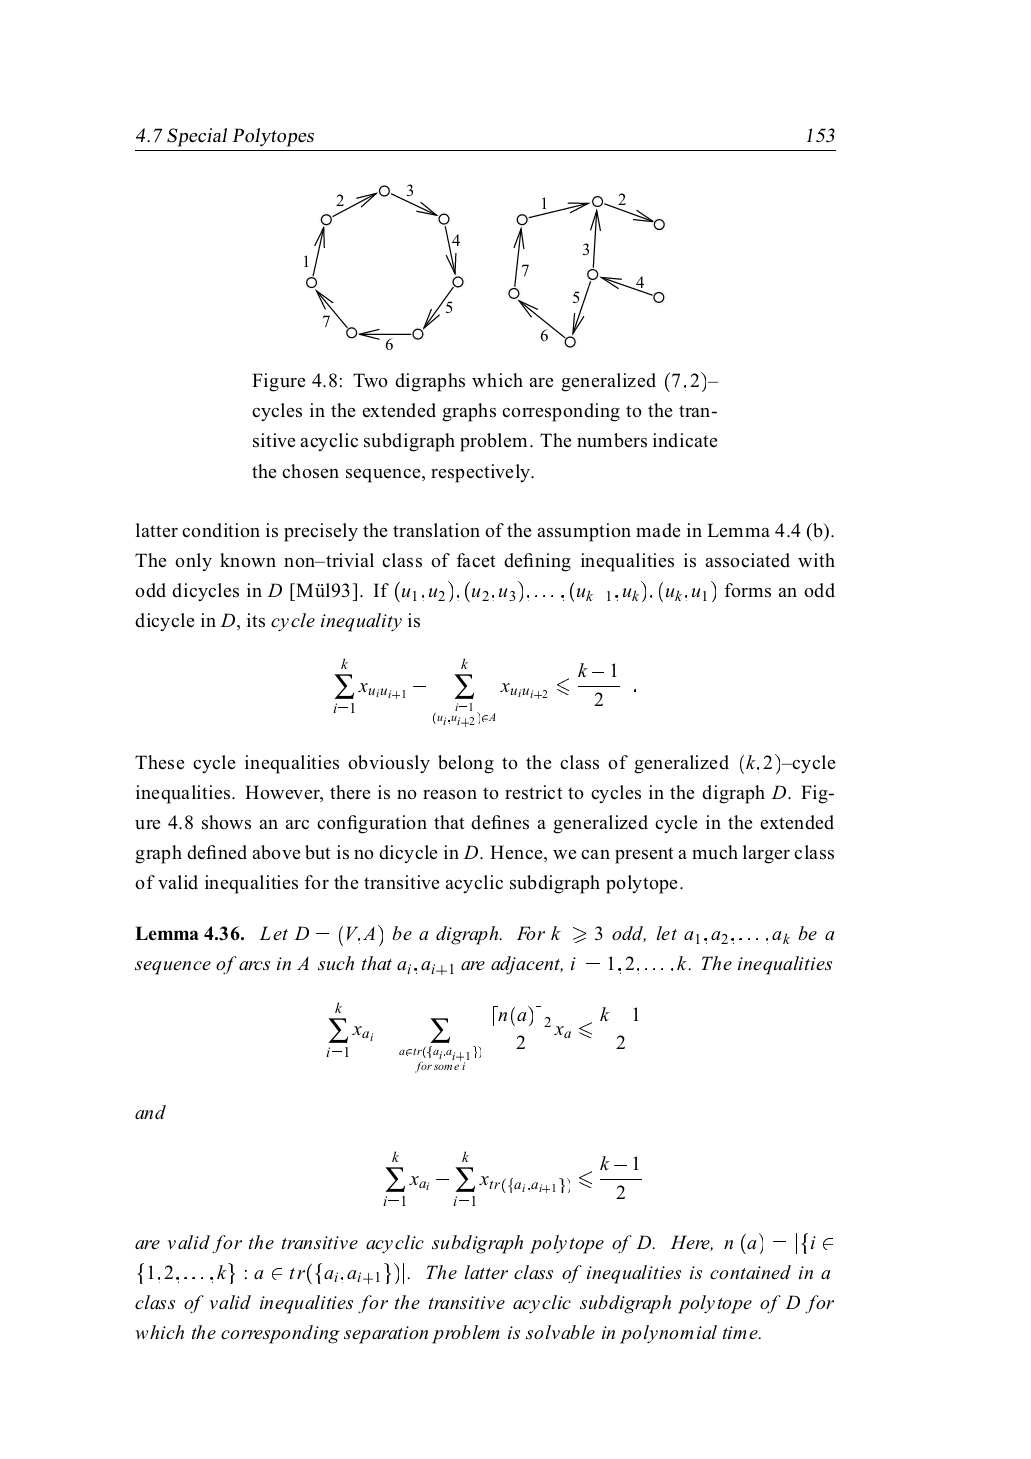figure: (303, 184, 463, 350), (508, 193, 664, 347)
formula: (326, 1001, 638, 1073), (333, 657, 635, 727), (383, 1150, 640, 1207)
